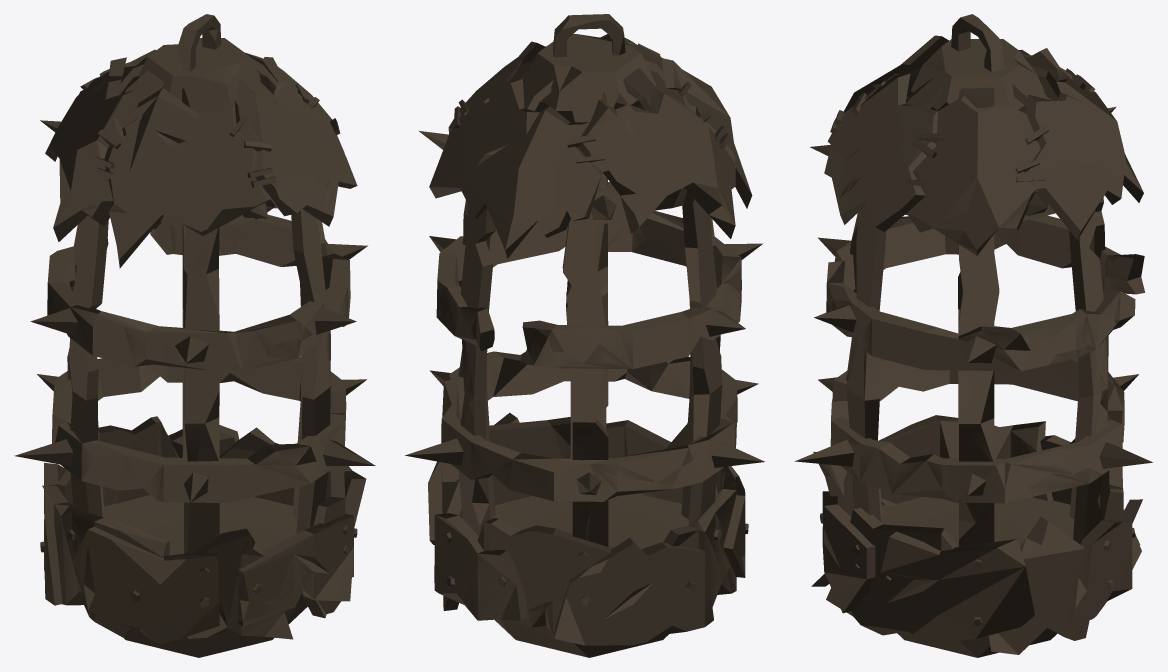
The model's file is bog_cage.gltf.
3 renders of one model, left to right at view 1: azimuth 30°, elevation 25°; view 2: azimuth 150°, elevation 25°; view 3: azimuth 270°, elevation 25°, orthographic.
Parts seen in each view (by area): view 1: bog_cage; view 2: bog_cage; view 3: bog_cage.
Part boxes in pixels (x1,y1,x2,y2): bog_cage: (14, 14, 375, 657); bog_cage: (405, 14, 764, 657); bog_cage: (795, 14, 1152, 657).
Size of the model in its own units: 1.51 by 2.51 by 1.37.
Materials: 1 (1 with a texture image).
